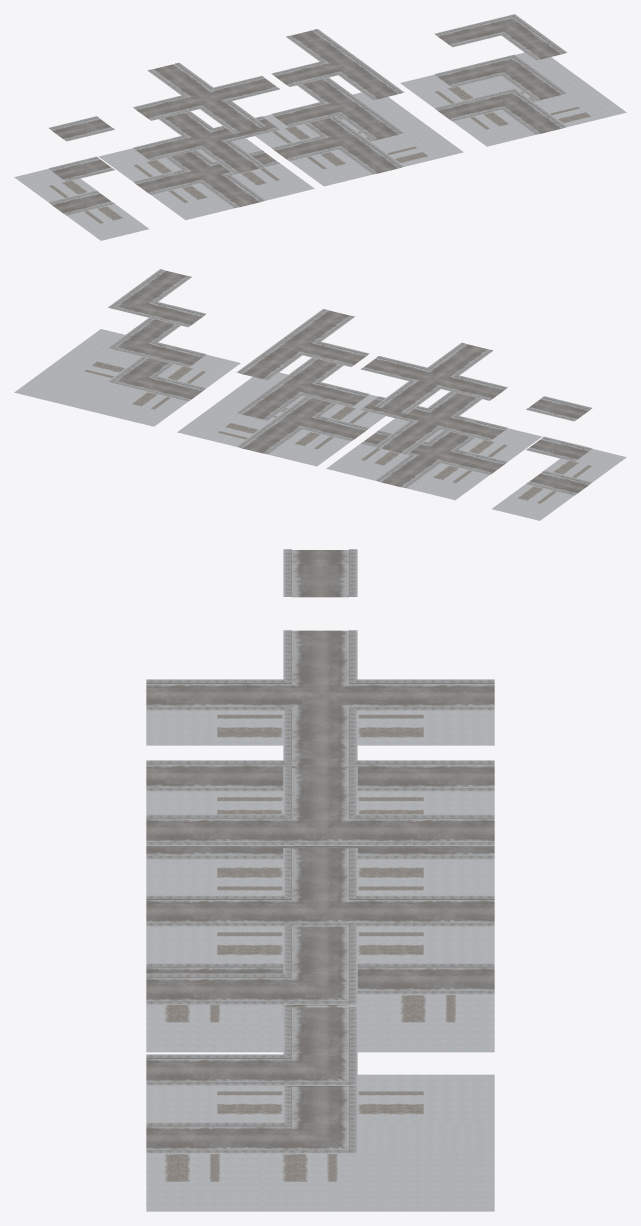
File: Roads.dae
3 views of the same model, one above another, from view 1: azimuth 30°, elevation 25°; view 2: azimuth 150°, elevation 25°; view 3: azimuth 270°, elevation 25° (orthographic). The views are drawn at different scales.
Visible parts, largest first — view 1: Road_03, Road_02, Road_01, Road_V2_01, Road, Road_V_01, Road_V2_02, Road_V_02, Road_V2_03, Road_V_03, Road_V, Road_V2; view 2: Road_03, Road_02, Road_01, Road_V2_01, Road, Road_V_01, Road_V2_02, Road_V_02, Road_V2_03, Road_V_03, Road_V, Road_V2; view 3: Road_03, Road_02, Road_01, Road_V2_01, Road_V2_02, Road_V_02, Road_V_03, Road_V2_03, Road, Road_V_01, Road_V2.
Boxes of the visible parts, left/top/right/bottom form: Road_03: left=400, top=52, right=626, bottom=146; Road_02: left=255, top=92, right=463, bottom=186; Road_01: left=99, top=138, right=314, bottom=220; Road_V2_01: left=133, top=62, right=280, bottom=133; Road: left=14, top=168, right=148, bottom=240; Road_V_01: left=133, top=111, right=280, bottom=174; Road_V2_02: left=271, top=29, right=404, bottom=100; Road_V_02: left=271, top=77, right=404, bottom=140; Road_V2_03: left=434, top=14, right=567, bottom=60; Road_V_03: left=434, top=54, right=567, bottom=100; Road_V: left=48, top=156, right=114, bottom=181; Road_V2: left=49, top=116, right=114, bottom=141; Road_03: left=14, top=329, right=240, bottom=426; Road_02: left=177, top=372, right=385, bottom=466; Road_01: left=326, top=418, right=541, bottom=500; Road_V2_01: left=360, top=342, right=507, bottom=413; Road: left=492, top=449, right=626, bottom=520; Road_V_01: left=360, top=391, right=507, bottom=454; Road_V2_02: left=236, top=309, right=369, bottom=380; Road_V_02: left=236, top=357, right=369, bottom=420; Road_V2_03: left=108, top=269, right=206, bottom=327; Road_V_03: left=108, top=318, right=206, bottom=367; Road_V: left=526, top=436, right=592, bottom=461; Road_V2: left=526, top=396, right=592, bottom=421; Road_03: left=146, top=1074, right=494, bottom=1211; Road_02: left=146, top=926, right=494, bottom=1052; Road_01: left=146, top=791, right=494, bottom=895; Road_V2_01: left=146, top=632, right=494, bottom=758; Road_V2_02: left=146, top=767, right=494, bottom=846; Road_V_02: left=146, top=848, right=494, bottom=926; Road_V_03: left=146, top=1007, right=357, bottom=1086; Road_V2_03: left=146, top=926, right=357, bottom=1005; Road: left=146, top=711, right=494, bottom=745; Road_V_01: left=146, top=758, right=494, bottom=791; Road_V2: left=283, top=549, right=357, bottom=597.
Bounding box in the file's own units: 276 × 78.99 × 37.33.
